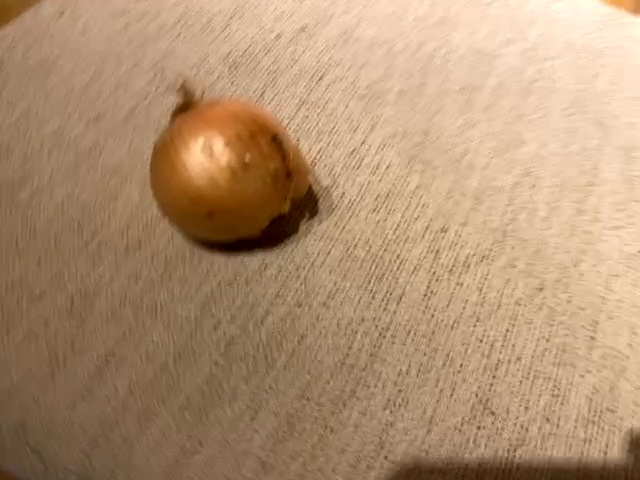onion: (146, 76, 311, 255)
